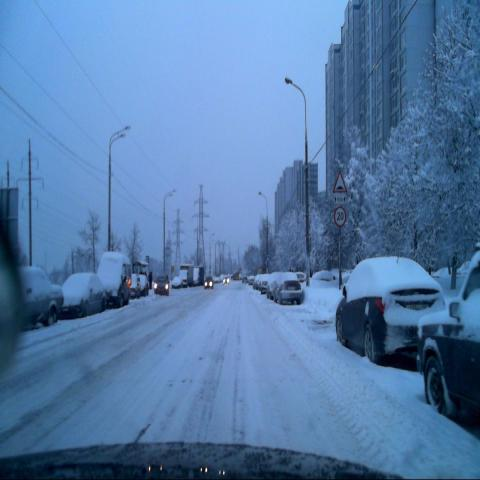1_17: (333, 171, 347, 192)
3_24: (335, 205, 346, 227)
8_2_1: (334, 193, 347, 204)
